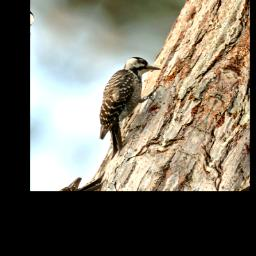Woodpecker: (73, 48, 174, 164)
